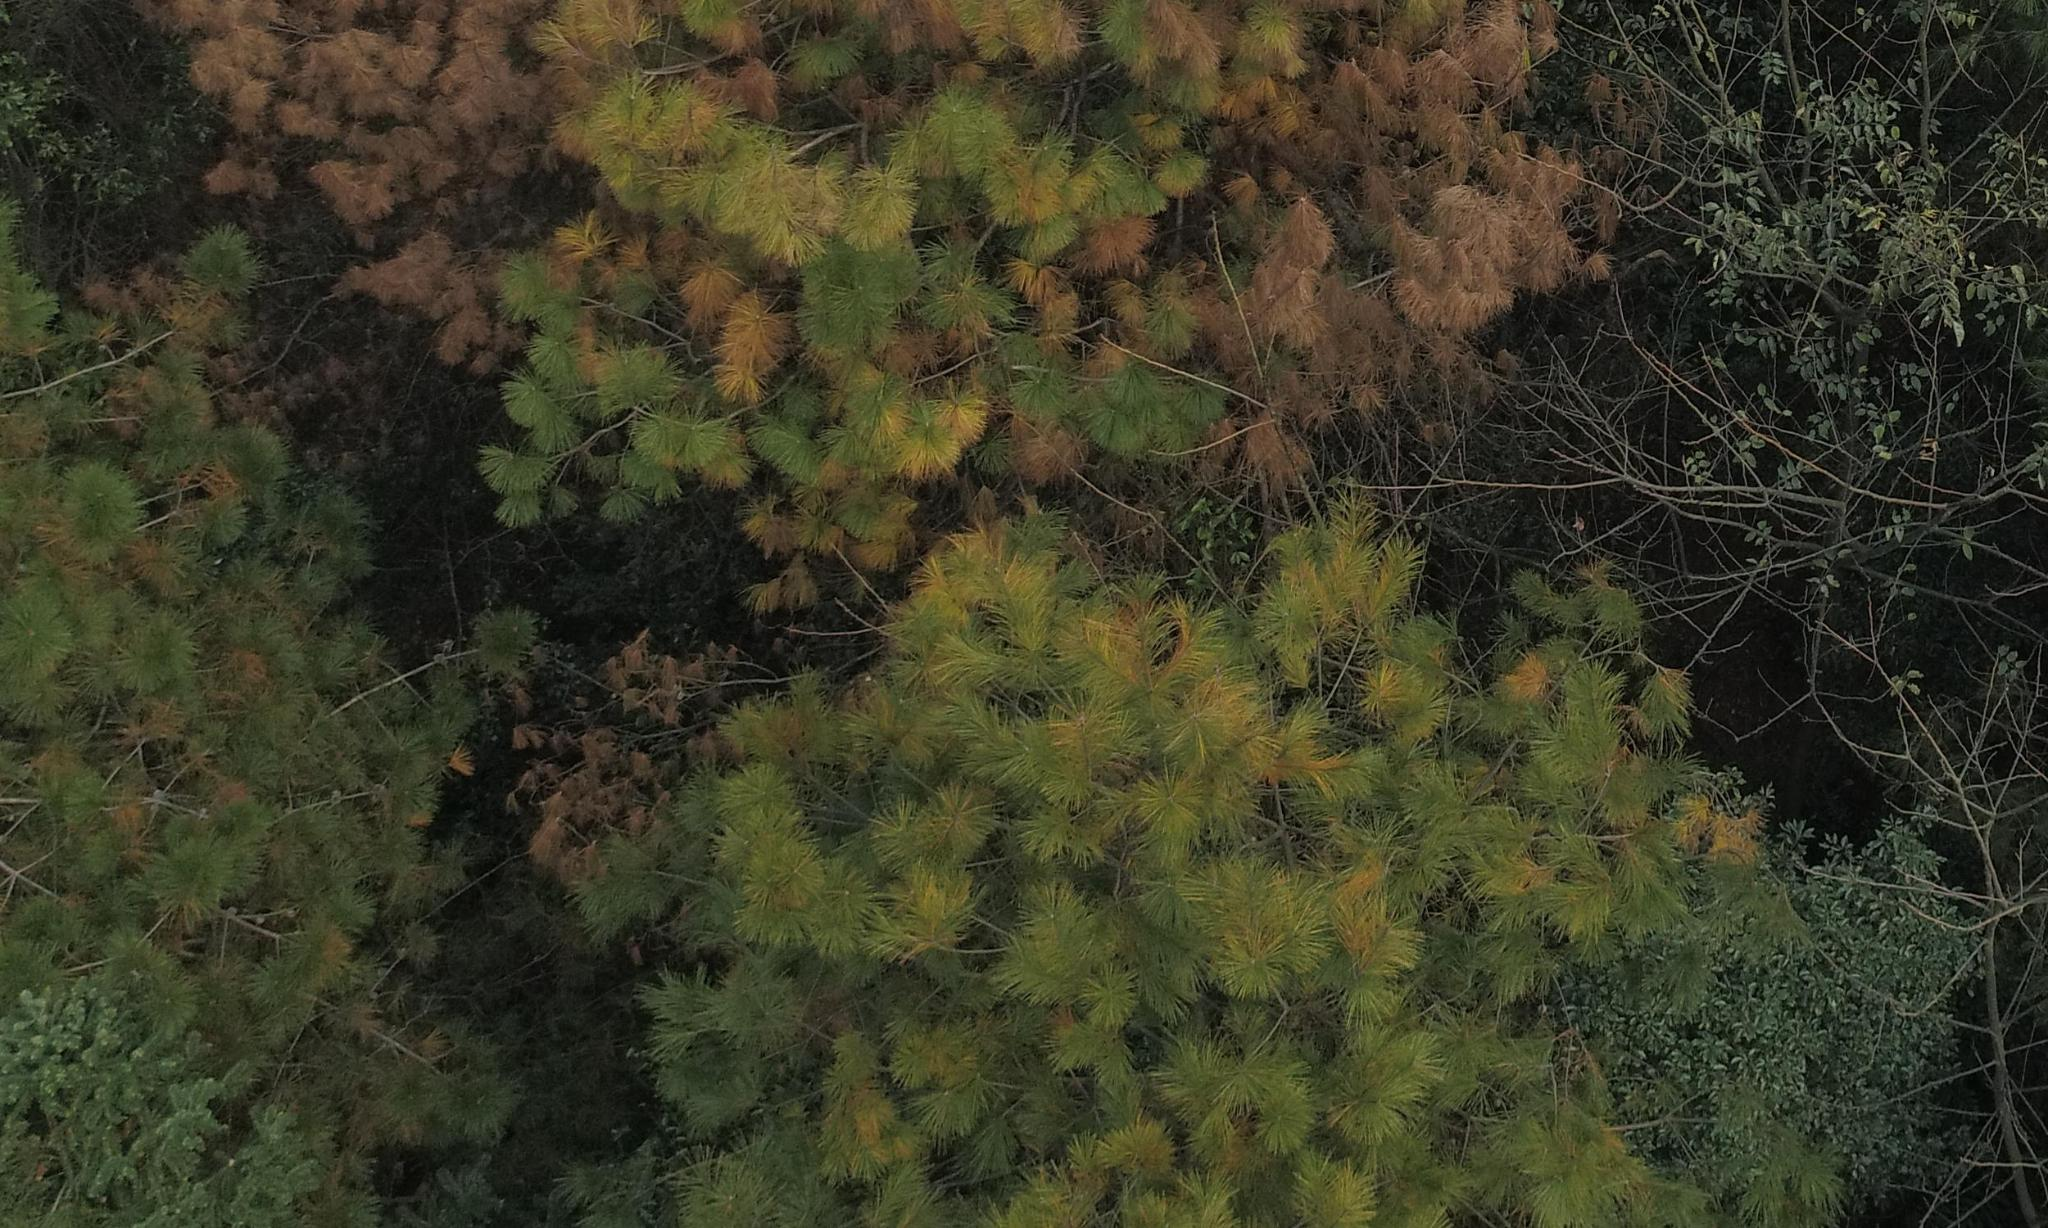heavy: (1194, 47, 1607, 420), (209, 13, 582, 358)
light: (639, 551, 1719, 1146), (610, 25, 1070, 449)
